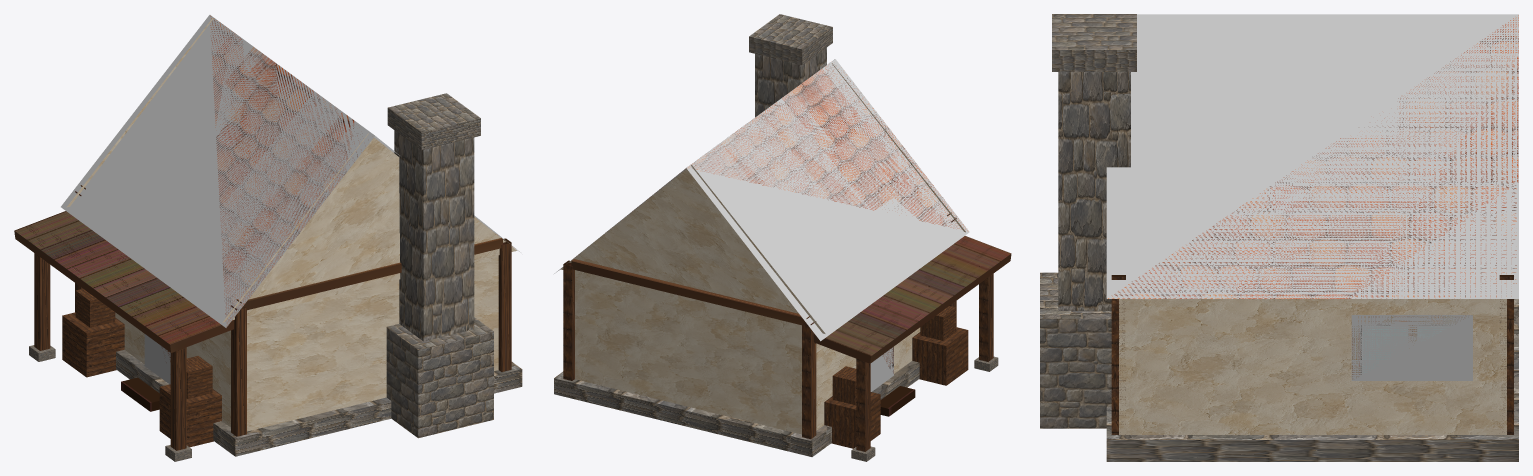
File: Blacksmith.obj
The picture shows the model from 3 angles, left to right: view 1: azimuth 30°, elevation 25°; view 2: azimuth 150°, elevation 25°; view 3: azimuth 270°, elevation 25°; orthographic projection. The views are drawn at different scales.
Parts seen in each view (by area): view 1: mesh, pyramid; view 2: mesh, pyramid; view 3: mesh.
Boxes of the visible parts, box(x1,y1,x2,y2) form: mesh: box(14, 15, 522, 461); pyramid: box(66, 18, 516, 322); mesh: box(554, 14, 1011, 461); pyramid: box(560, 63, 965, 333); mesh: box(1040, 14, 1518, 461).
Size of the model in its own units: 1.29 by 1.07 by 1.23.
8 materials, 7 textured.
